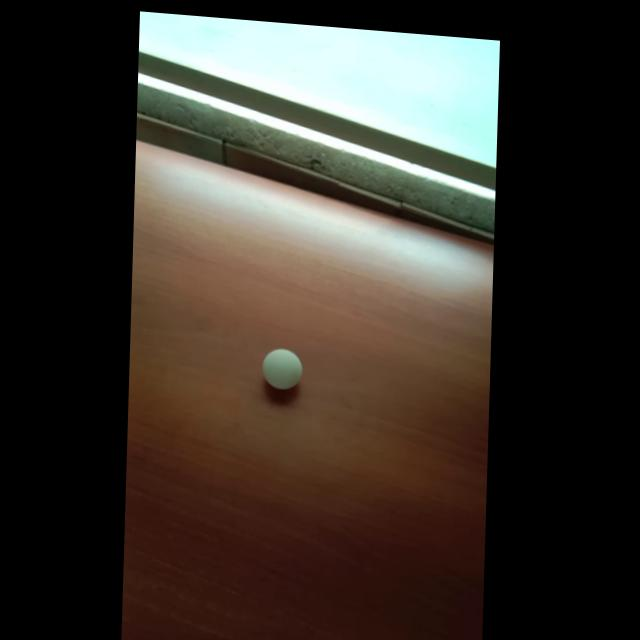white ball: (261, 346, 302, 391)
